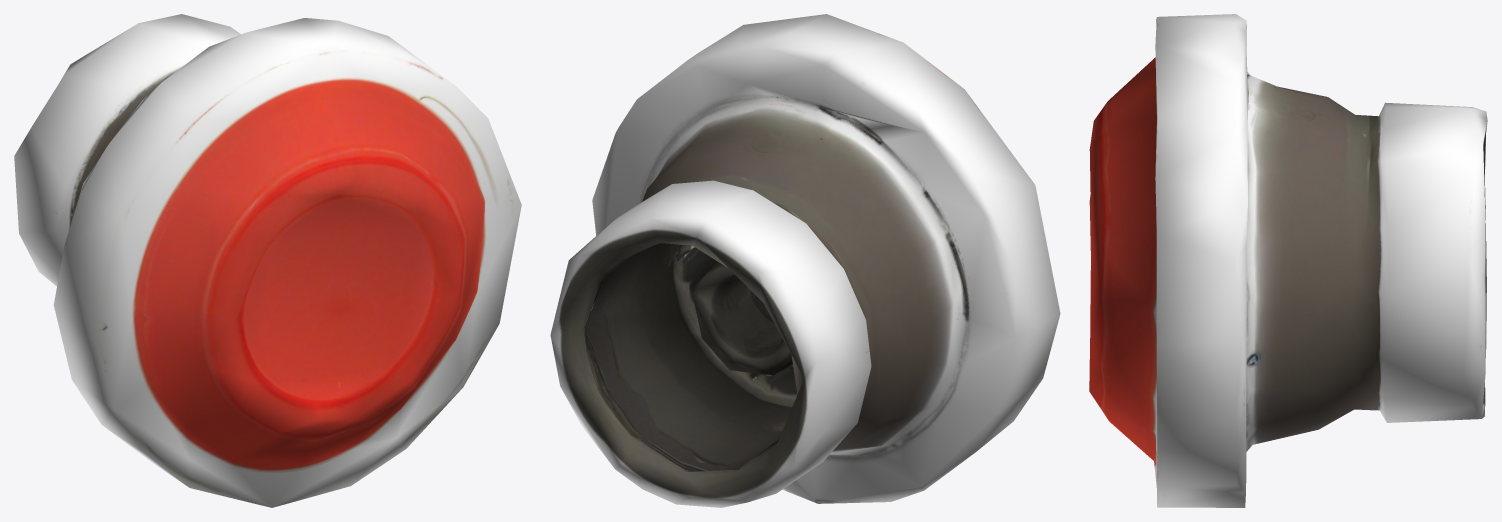
The picture shows the model from 3 angles, left to right: view 1: azimuth 30°, elevation 25°; view 2: azimuth 150°, elevation 25°; view 3: azimuth 270°, elevation 25°; orthographic projection.
Visible parts, largest first — view 1: Mesh1.0; view 2: Mesh1.0; view 3: Mesh1.0.
Boxes of the visible parts, bbox=[...] form: Mesh1.0: bbox=[14, 14, 521, 507]; Mesh1.0: bbox=[550, 14, 1060, 507]; Mesh1.0: bbox=[1089, 14, 1487, 507].
Bounding box in the file's own units: 176 × 178 × 142.
1 material, 1 textured.
